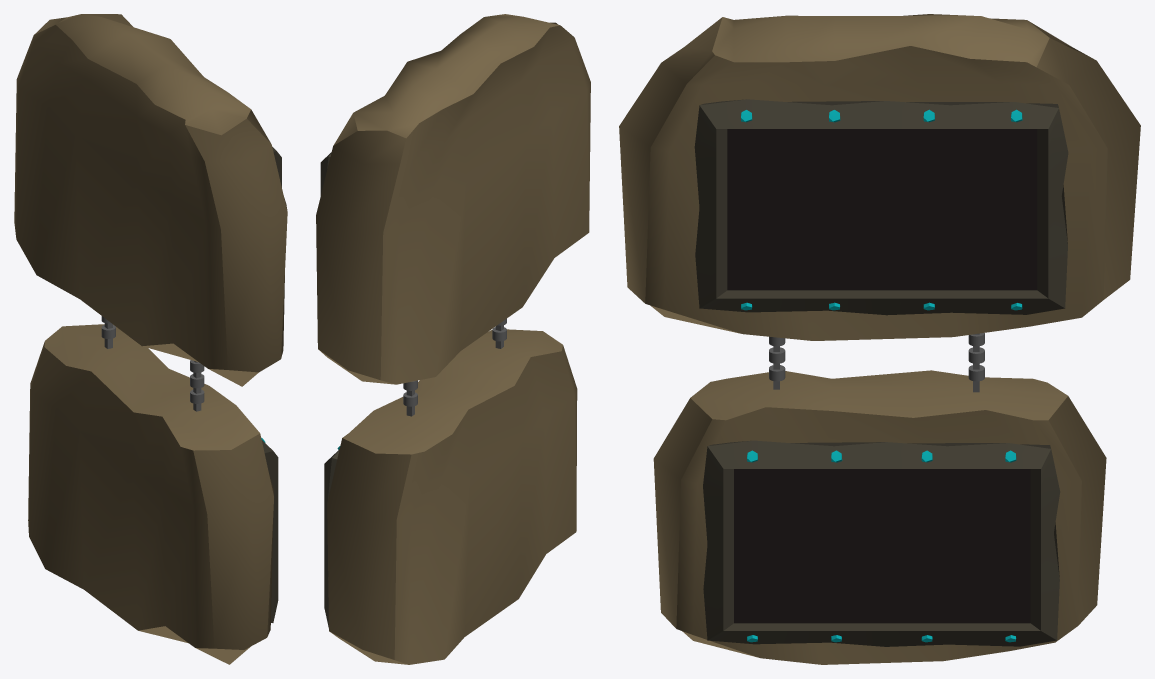
File: Tutorial board.fbx
3 views of the same model, side by side, from view 1: azimuth 30°, elevation 25°; view 2: azimuth 150°, elevation 25°; view 3: azimuth 270°, elevation 25° (orthographic). The views are drawn at different scales.
Parts seen in each view (by area): view 1: pCube3, pasted__pCube3, TitleBoard; view 2: pCube3, pasted__pCube3, TitleBoard; view 3: pasted__TitleBoard, pCube3, TitleBoard, pasted__pCube3.
Part boxes in pixels (box(x1,y1,x2,y2)): pCube3: box(14, 14, 287, 386); pasted__pCube3: box(28, 324, 273, 664); TitleBoard: box(262, 440, 278, 622); pCube3: box(316, 14, 590, 384); pasted__pCube3: box(327, 329, 577, 664); TitleBoard: box(324, 449, 339, 627); pasted__TitleBoard: box(694, 99, 1068, 315); pCube3: box(619, 14, 1140, 340); TitleBoard: box(703, 440, 1060, 646); pasted__pCube3: box(653, 370, 1106, 664).
Size of the model in its own units: 3.52 by 17.61 by 13.25.
5 materials, 1 textured.
